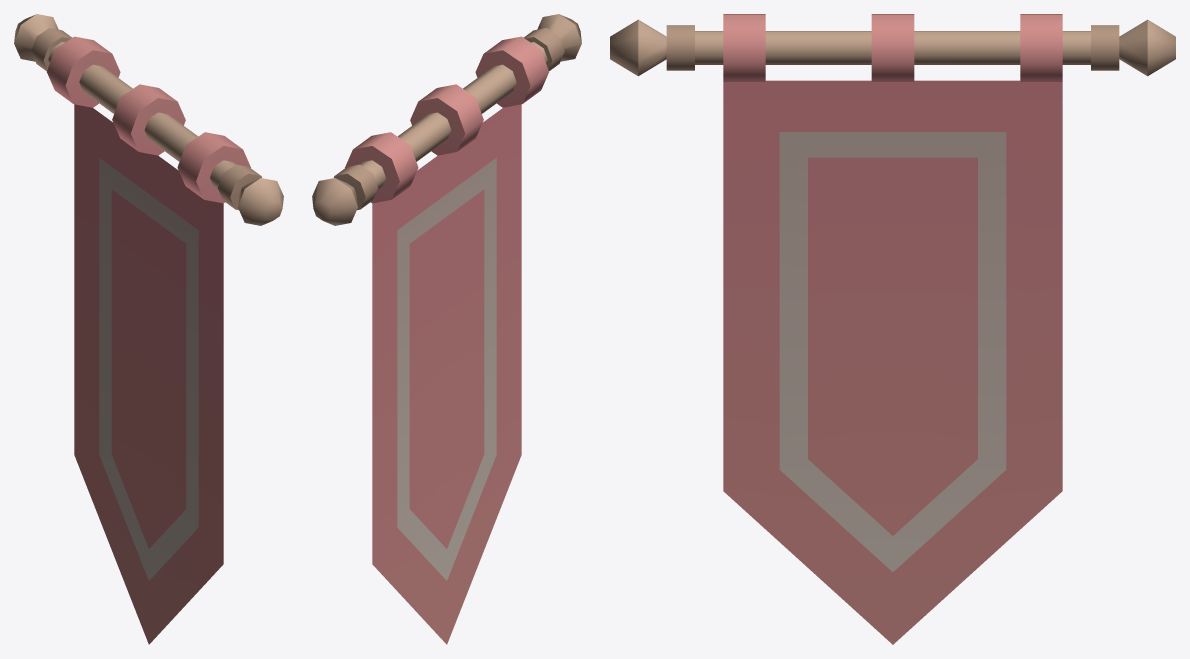
Rendered from banner-medieval-point (%wall).glb.
The picture shows the model from 3 angles, left to right: view 1: azimuth 30°, elevation 25°; view 2: azimuth 150°, elevation 25°; view 3: azimuth 270°, elevation 25°; orthographic projection. The views are drawn at different scales.
Parts seen in each view (by area): view 1: banner-medieval-point (%wall); view 2: banner-medieval-point (%wall); view 3: banner-medieval-point (%wall).
Boxes of the visible parts, x1,y1,x2,y2 form: banner-medieval-point (%wall): (14,14,283,644); banner-medieval-point (%wall): (312,14,581,644); banner-medieval-point (%wall): (610,14,1175,644).
Size of the model in its own units: 0.1279 by 1.23 by 1.
